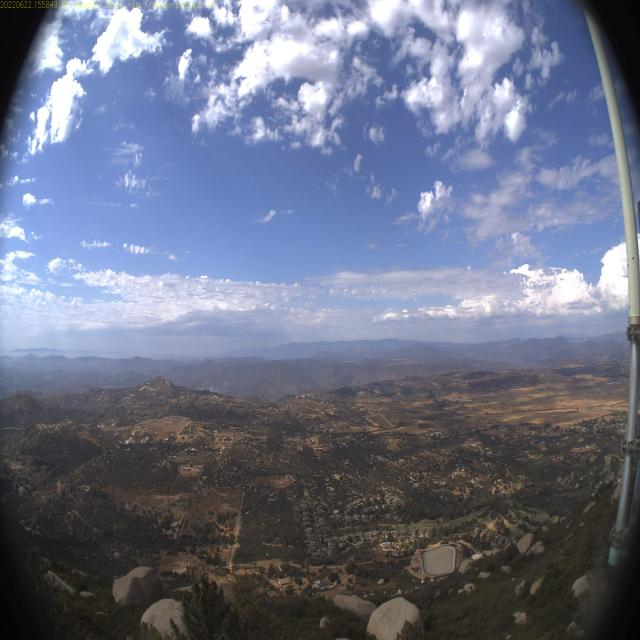smoke: (204, 379, 232, 395)
